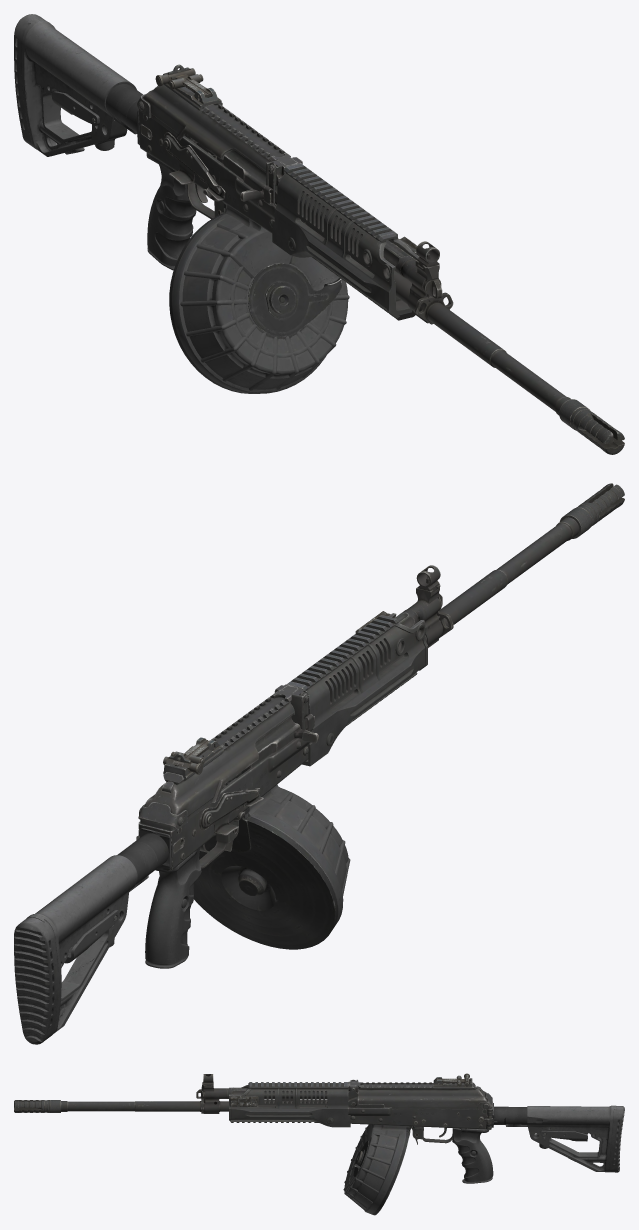
File: rpk_drum_mag.glb
3 renders of one model, top to bottom at view 1: azimuth 30°, elevation 25°; view 2: azimuth 150°, elevation 25°; view 3: azimuth 270°, elevation 25°, orthographic. The views are drawn at different scales.
Visible parts, largest first — view 1: RPK_Mag_0, RPK_Stock_0, RPK_Handguard_0, RPK_BodyRPK_0, RPK_Barrel_0, RPK_Toprail_0, RPK_Grip_0, RPK_Muzzle_0, RPK_Sight_0, RPK_StockStick_0; view 2: RPK_Mag_0, RPK_Stock_0, RPK_Handguard_0, RPK_BodyRPK_0, RPK_Toprail_0, RPK_Barrel_0, RPK_Grip_0, RPK_StockStick_0, RPK_Sight_0, RPK_Muzzle_0; view 3: RPK_Stock_0, RPK_Handguard_0, RPK_Mag_0, RPK_BodyRPK_0, RPK_Toprail_0, RPK_Barrel_0, RPK_Grip_0, RPK_Sight_0, RPK_StockStick_0, RPK_Muzzle_0.
Part boxes in pixels (box(x1,y1,x2,y2)): RPK_Mag_0: box(169, 202, 349, 393); RPK_Stock_0: box(14, 14, 136, 156); RPK_Handguard_0: box(272, 163, 419, 320); RPK_BodyRPK_0: box(138, 109, 302, 233); RPK_Barrel_0: box(300, 193, 570, 415); RPK_Toprail_0: box(137, 85, 297, 172); RPK_Grip_0: box(146, 152, 196, 270); RPK_Muzzle_0: box(559, 399, 624, 454); RPK_Sight_0: box(155, 64, 418, 260); RPK_StockStick_0: box(105, 84, 142, 145); RPK_Mag_0: box(194, 778, 350, 949); RPK_Stock_0: box(14, 855, 137, 1044); RPK_Handguard_0: box(287, 613, 427, 766); RPK_BodyRPK_0: box(136, 684, 318, 870); RPK_Toprail_0: box(138, 685, 298, 830); RPK_Barrel_0: box(325, 517, 579, 709); RPK_Grip_0: box(145, 848, 201, 968); RPK_StockStick_0: box(117, 828, 171, 891); RPK_Sight_0: box(163, 611, 395, 781); RPK_Muzzle_0: box(559, 483, 624, 538); RPK_Stock_0: box(527, 1105, 624, 1172); RPK_Handguard_0: box(229, 1082, 350, 1127); RPK_Mag_0: box(343, 1124, 412, 1215); RPK_BodyRPK_0: box(348, 1079, 493, 1144); RPK_Toprail_0: box(349, 1082, 492, 1109); RPK_Barrel_0: box(61, 1074, 327, 1113); RPK_Grip_0: box(452, 1128, 493, 1183); RPK_Sight_0: box(230, 1073, 472, 1106); RPK_StockStick_0: box(486, 1103, 527, 1127); RPK_Muzzle_0: box(14, 1100, 60, 1112).
Size of the model in its own units: 9.14 by 14.23 by 57.81.
Materials: 10 (10 with a texture image).
